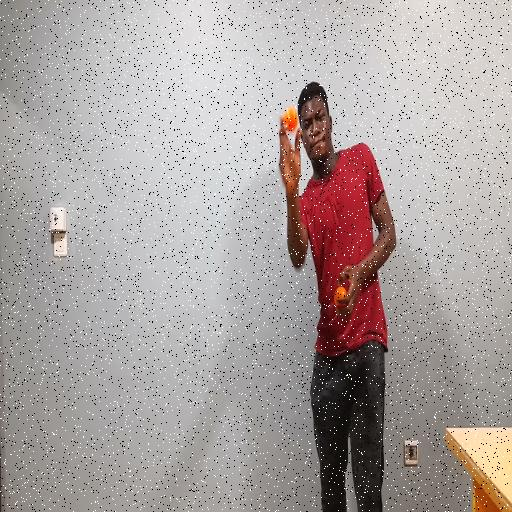plastic-ball: (280, 103, 300, 136)
